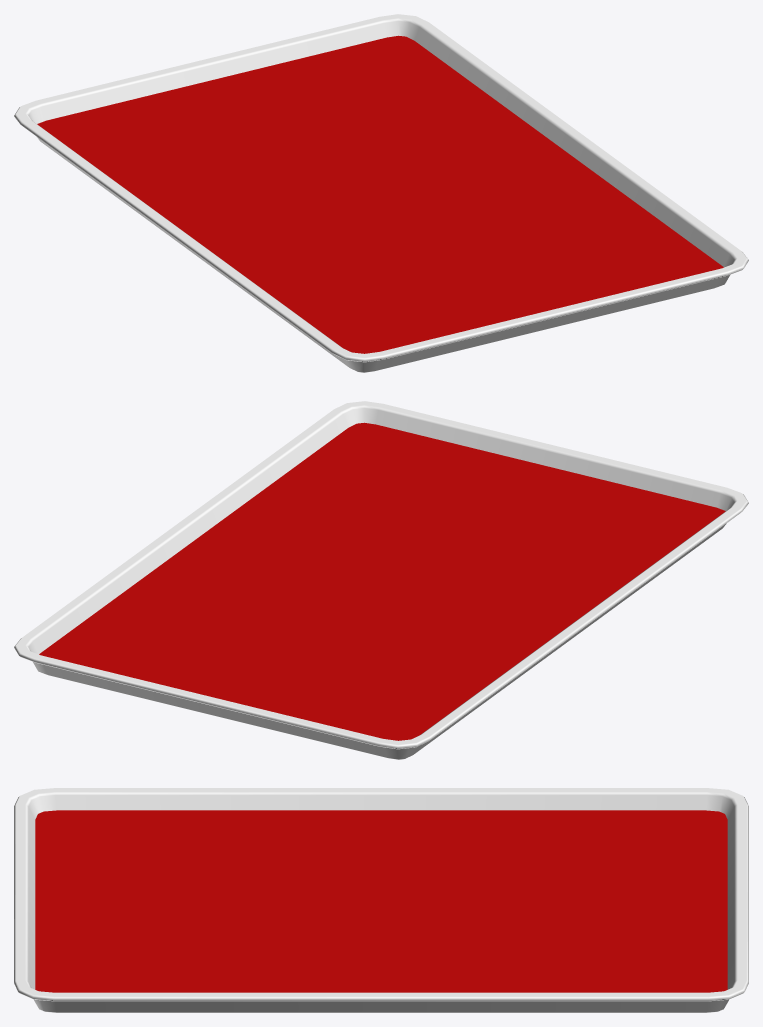
Rendered from MetalPlate01b.fbx.
The picture shows the model from 3 angles, top to bottom: view 1: azimuth 30°, elevation 25°; view 2: azimuth 150°, elevation 25°; view 3: azimuth 270°, elevation 25°; orthographic projection. The views are drawn at different scales.
Visible parts, largest first — view 1: MetalPlate01b; view 2: MetalPlate01b; view 3: MetalPlate01b.
Boxes of the visible parts, x1,y1,x2,y2 form: MetalPlate01b: (14,14,748,372); MetalPlate01b: (14,401,748,759); MetalPlate01b: (14,788,748,1012).
Bounding box in the file's own units: 42 × 62 × 2.46.
